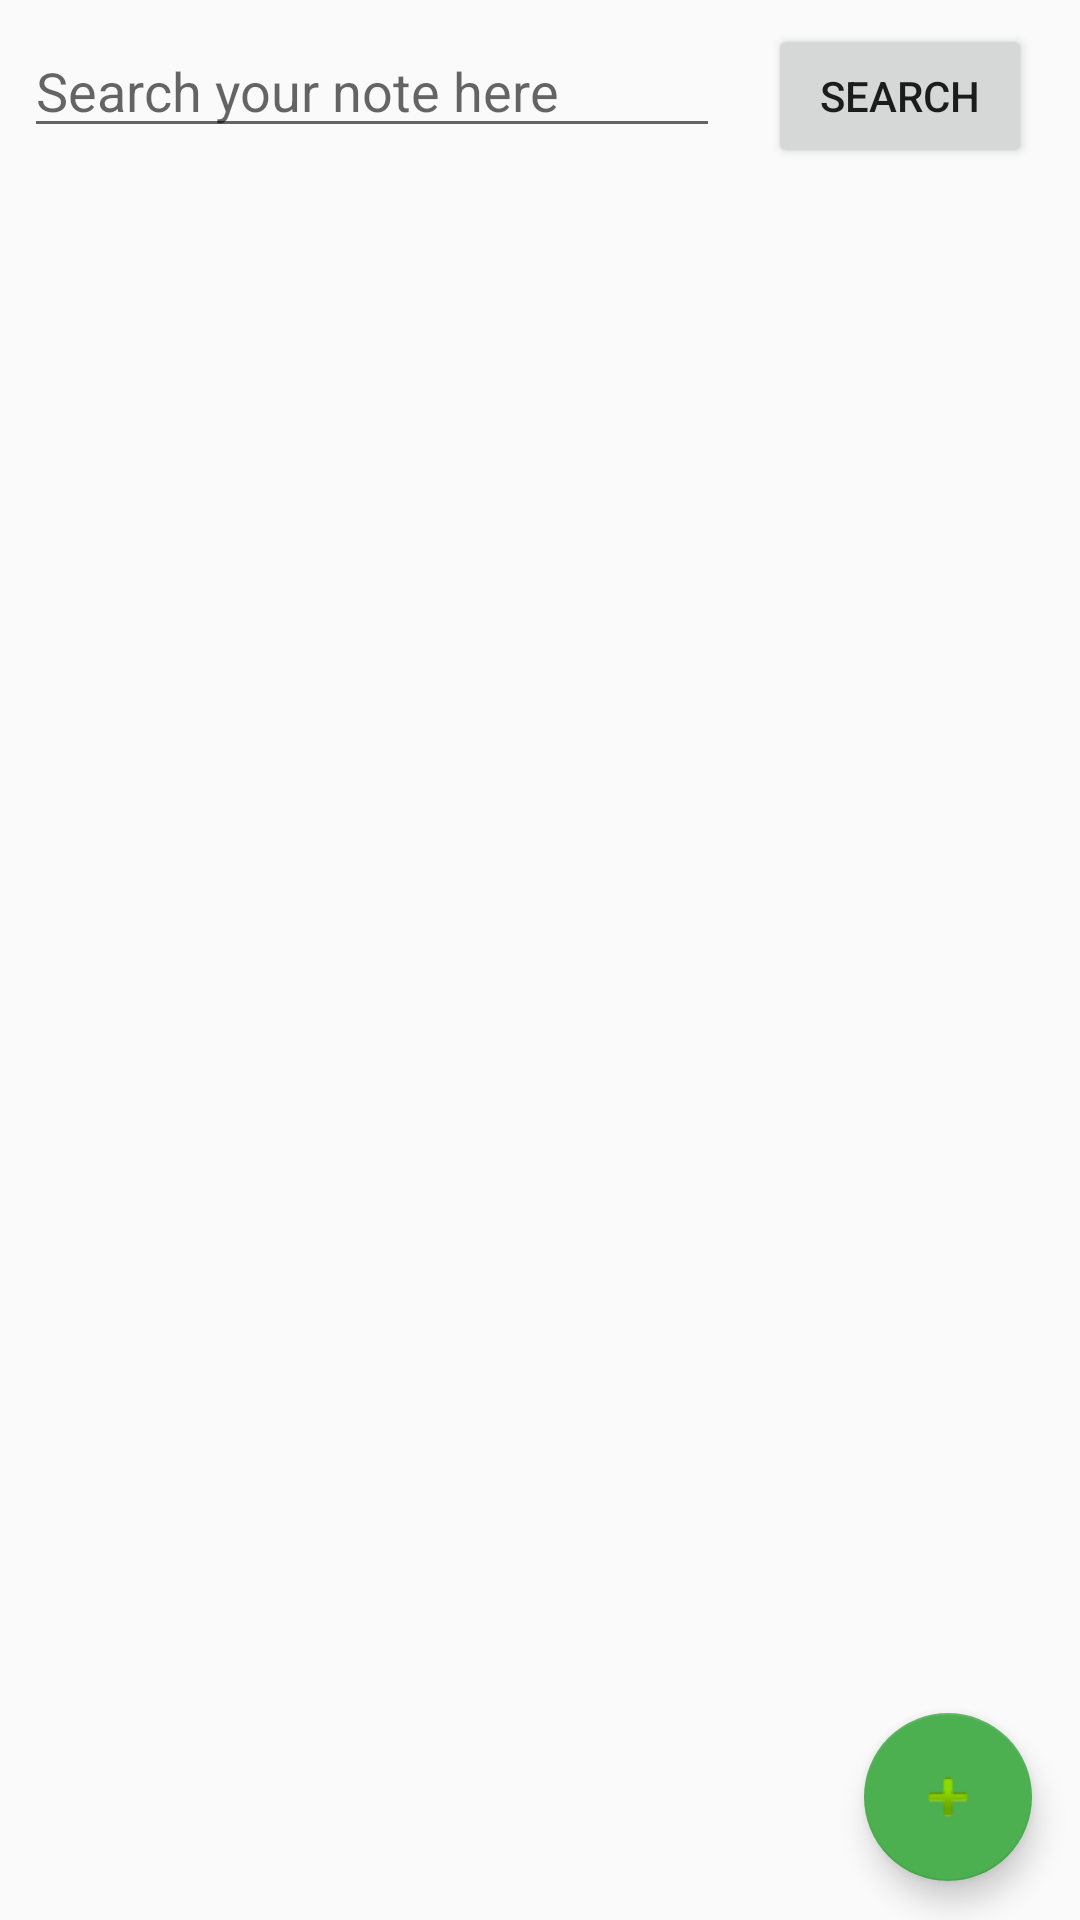

Named icons in this screenshot (1080x1920) and their centers, (x,y):
add: (948,1797)
